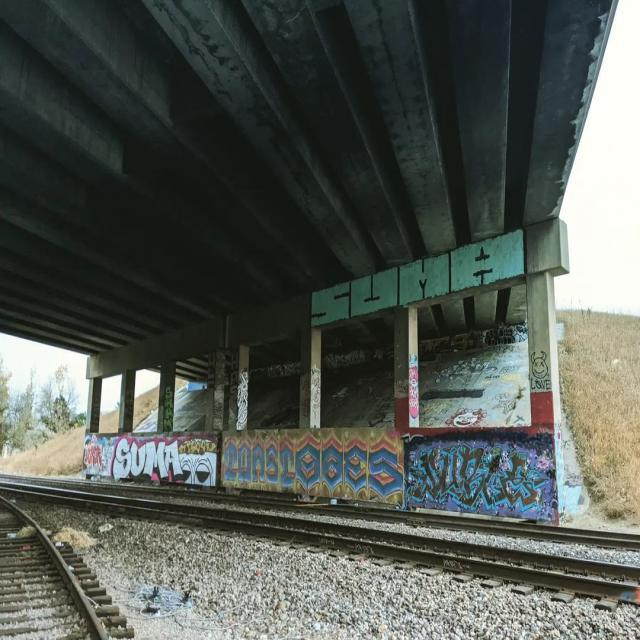-: (306, 226, 526, 326), (222, 433, 404, 508), (406, 432, 558, 521), (114, 438, 180, 482), (180, 434, 217, 490), (529, 346, 552, 393), (236, 368, 247, 431), (409, 364, 419, 410)
